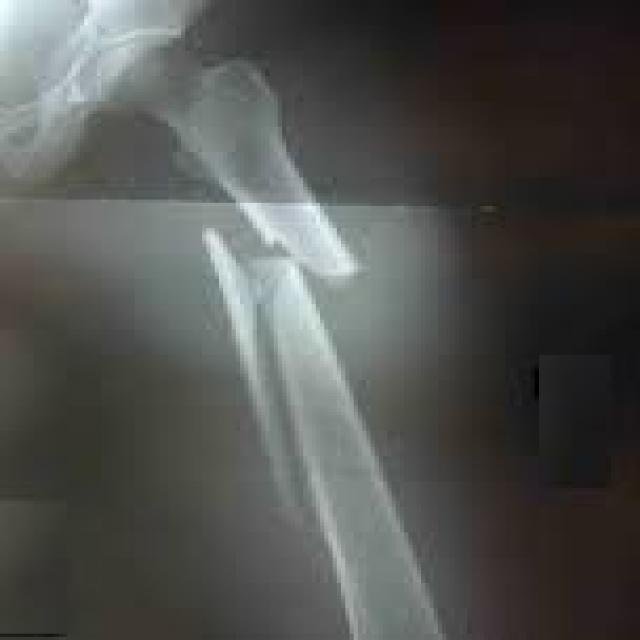Broken: (205, 227, 442, 639), (138, 52, 360, 282)
